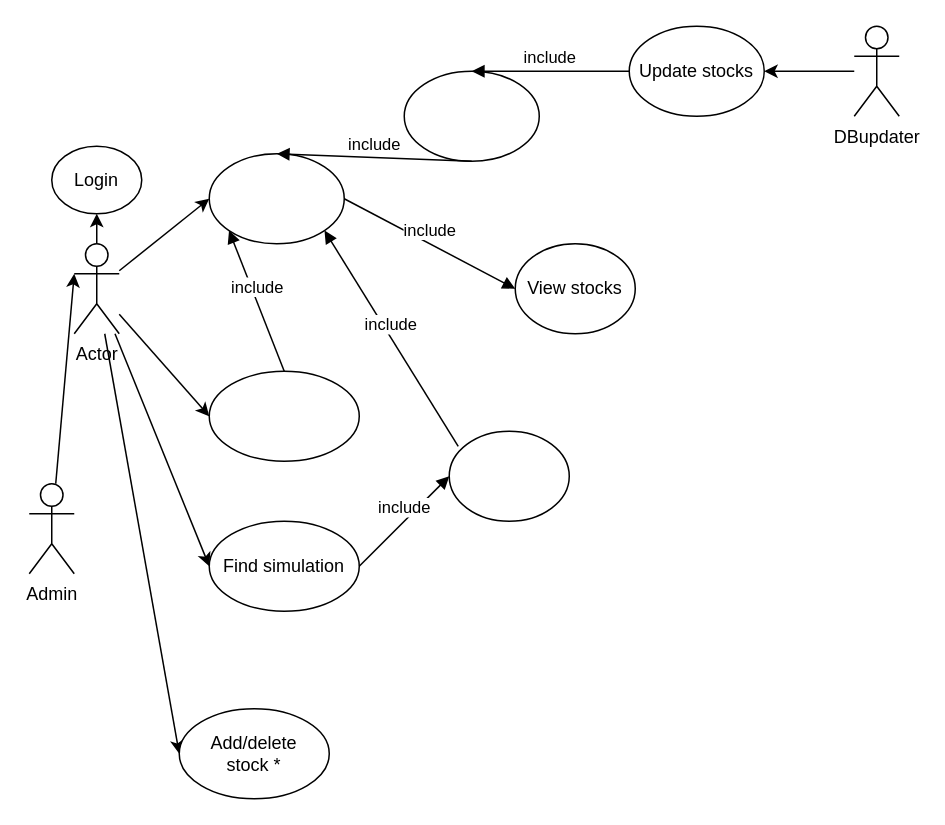
Some shapes in this 945 by 825 pixel diagram are drawn without their labels. The shapes that lost their labels are listed below. From the top down, each one's centre as x and y in pixels, then its label:
At (471,115): "Browse stocks".
At (276,198): "Find stocks".
At (283,415): "Create simulation".
At (508,475): "View simulation".
